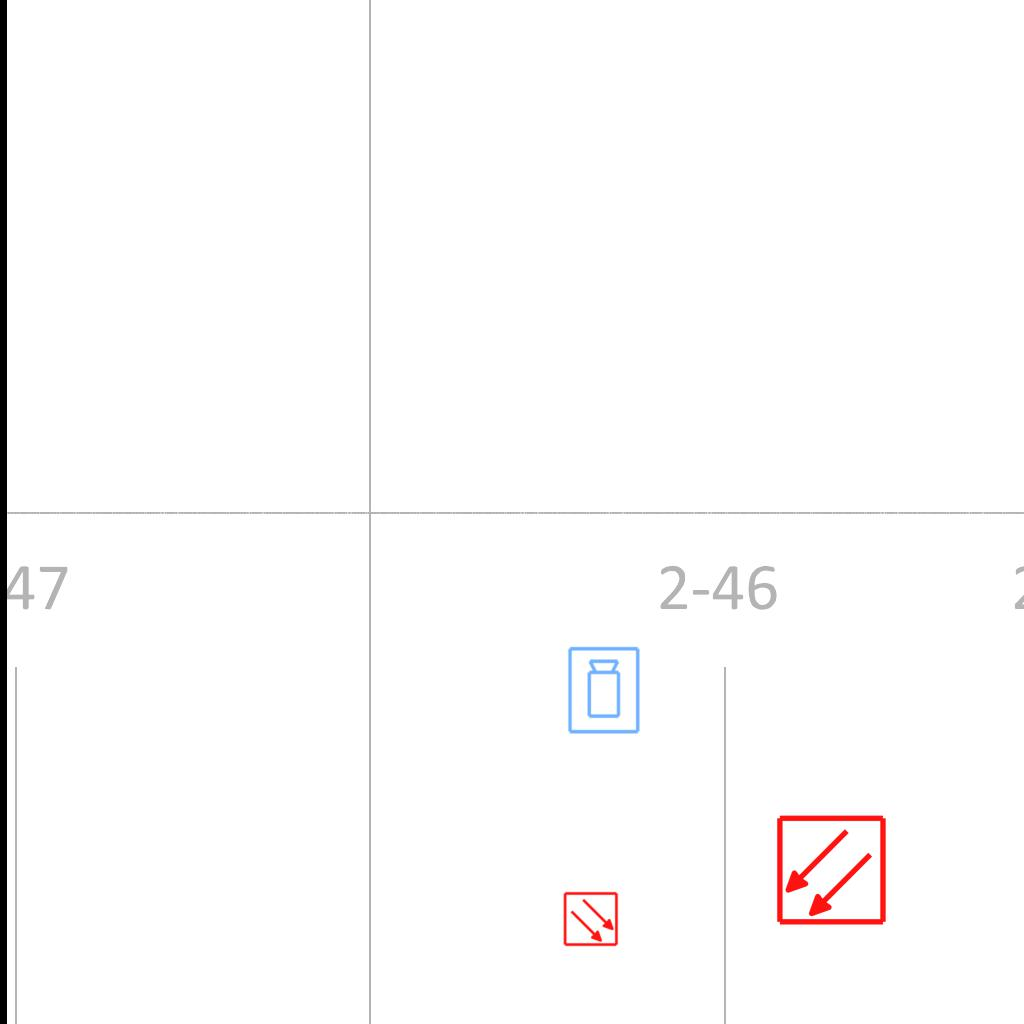KFO_Kamera_mit_Festobjektiv: (566, 645, 643, 736)
RMO_Rauchmelder_optischer: (775, 814, 888, 927), (563, 891, 619, 947)
